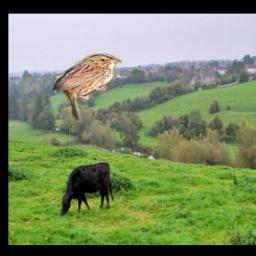Sparrow: (51, 54, 122, 124)
